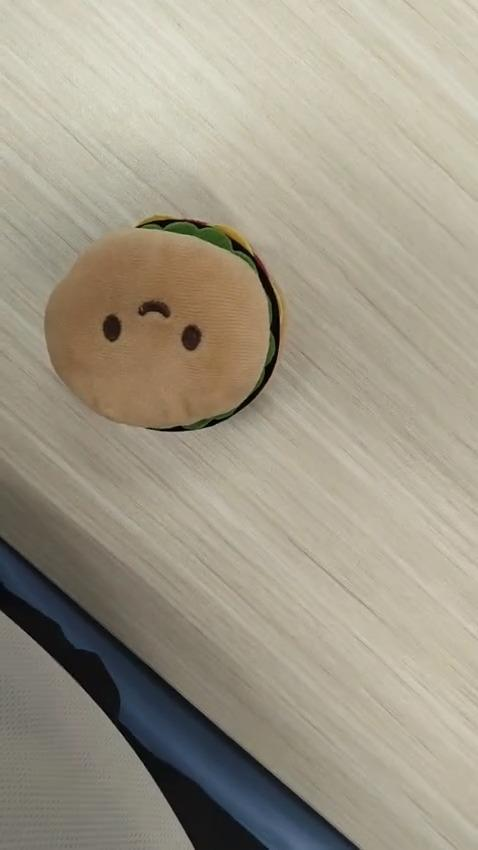hamburger: (44, 214, 283, 438)
